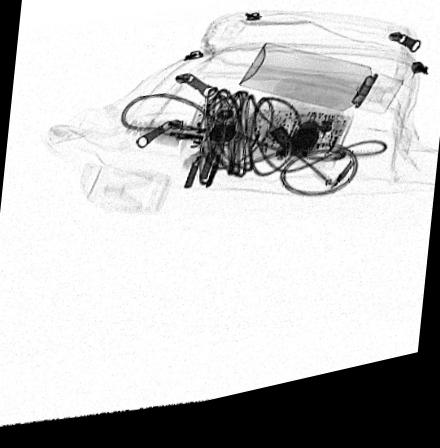Sprayer: (239, 55, 403, 132)
